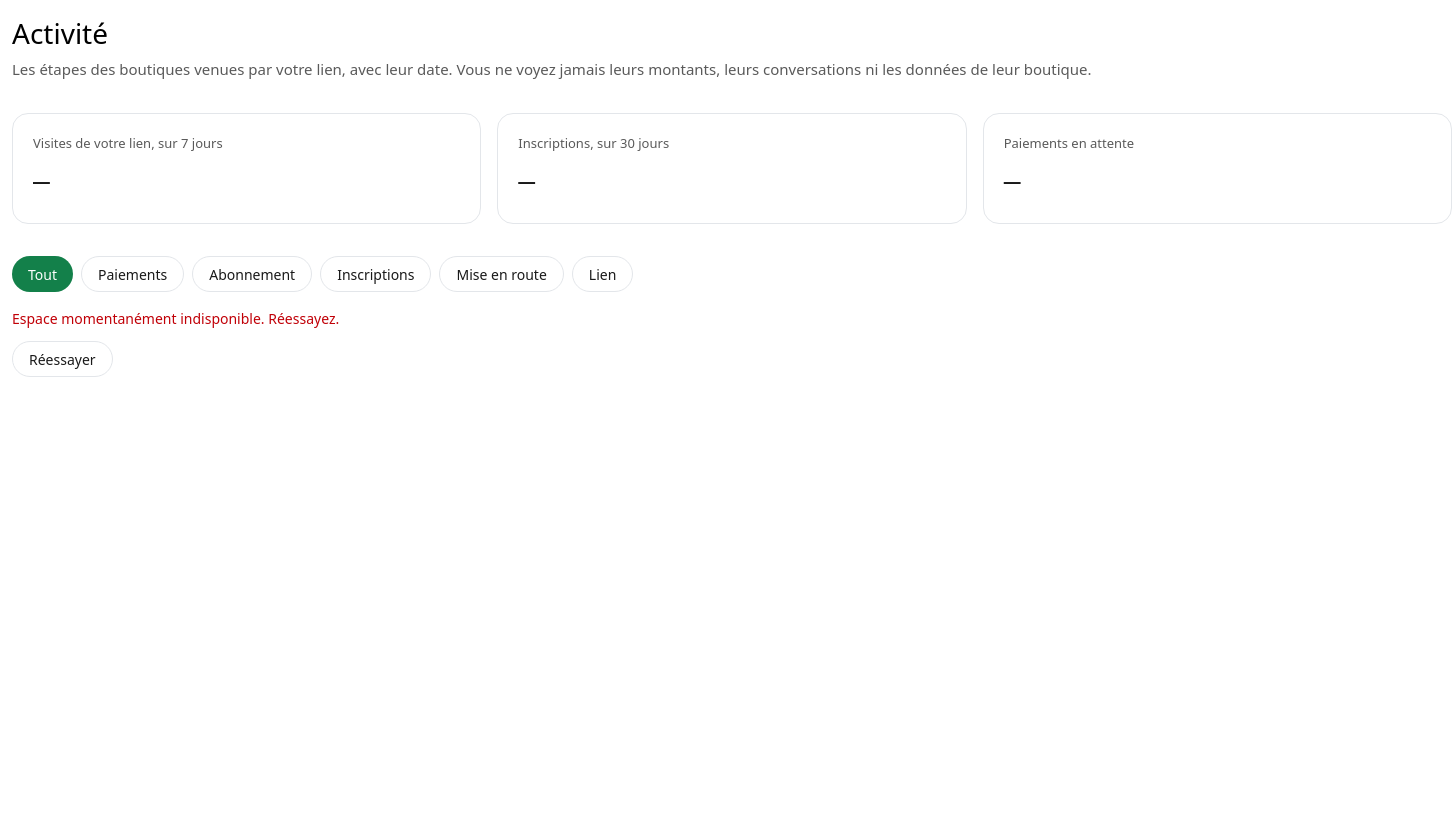
it: ActiviteCloser › panne : le message du serveur et « Réessayer », qui relit le fil
Expected: the message "Espace momentanément indisponible. Réessayez. Réessayer" is shown, [12,309,339,377]
Click the button "Réessayer".
click(62, 359)  # box [12,341,113,377]
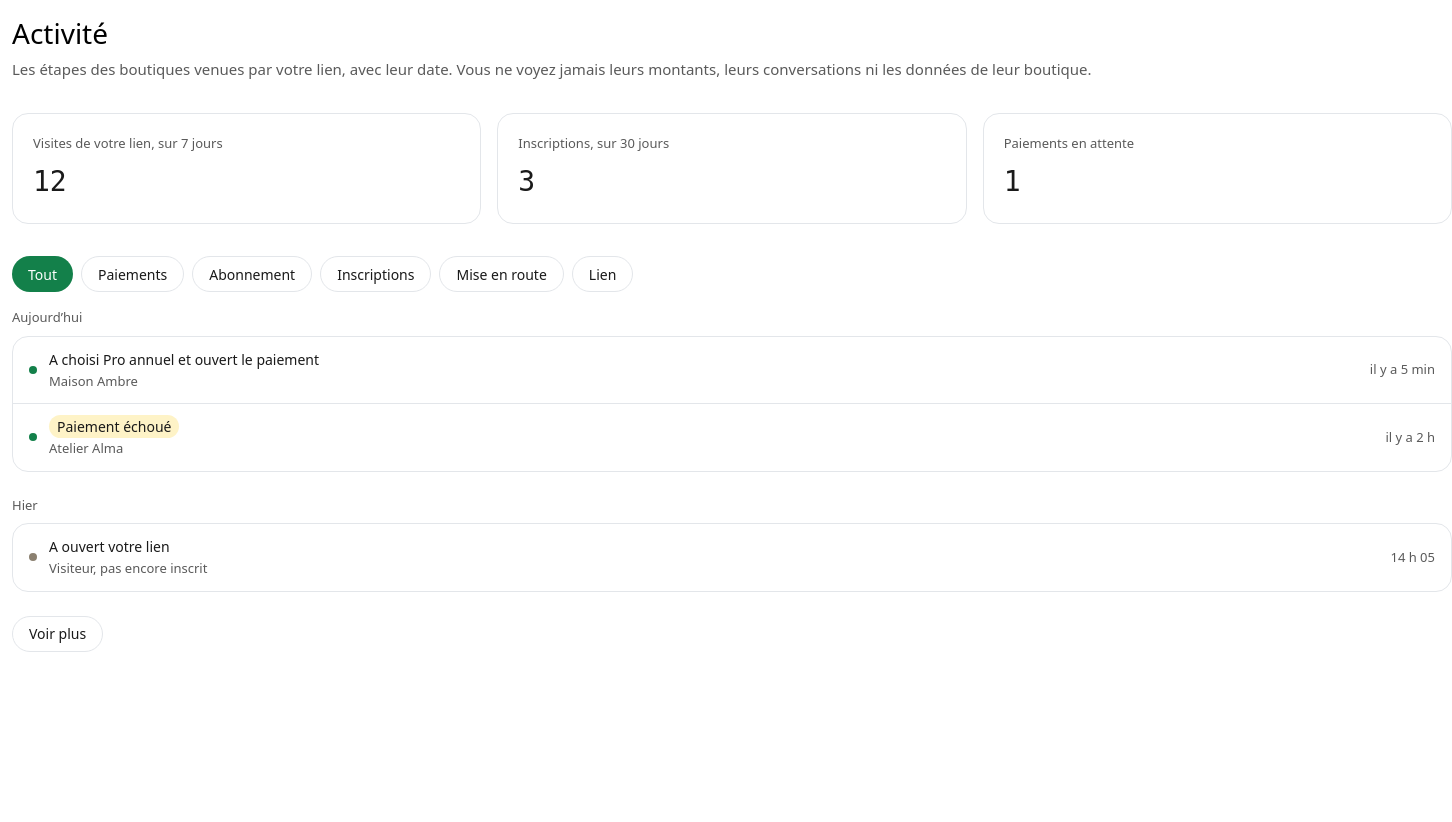
Result: the number of list items is 3 at [13,336,1451,404]; [13,404,1451,470]; [13,524,1451,590]
